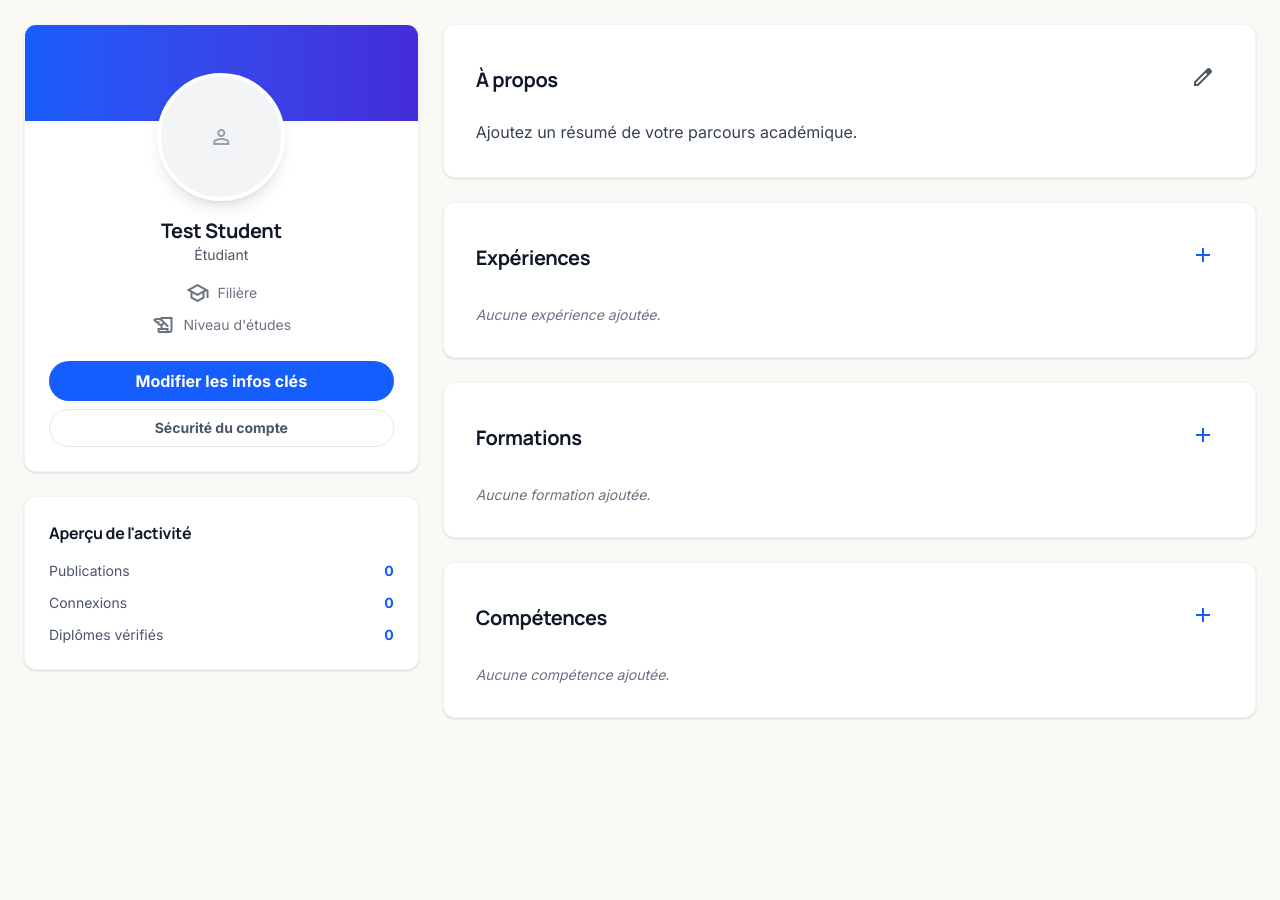
Test case: EtudiantProfil › affiche le modal d'ajout d'expérience
Expected: the heading "Expériences" is shown, [476, 244, 590, 272]
Click the button without text in the row of "Expériences".
click(1203, 258)  # box [1183, 235, 1223, 281]
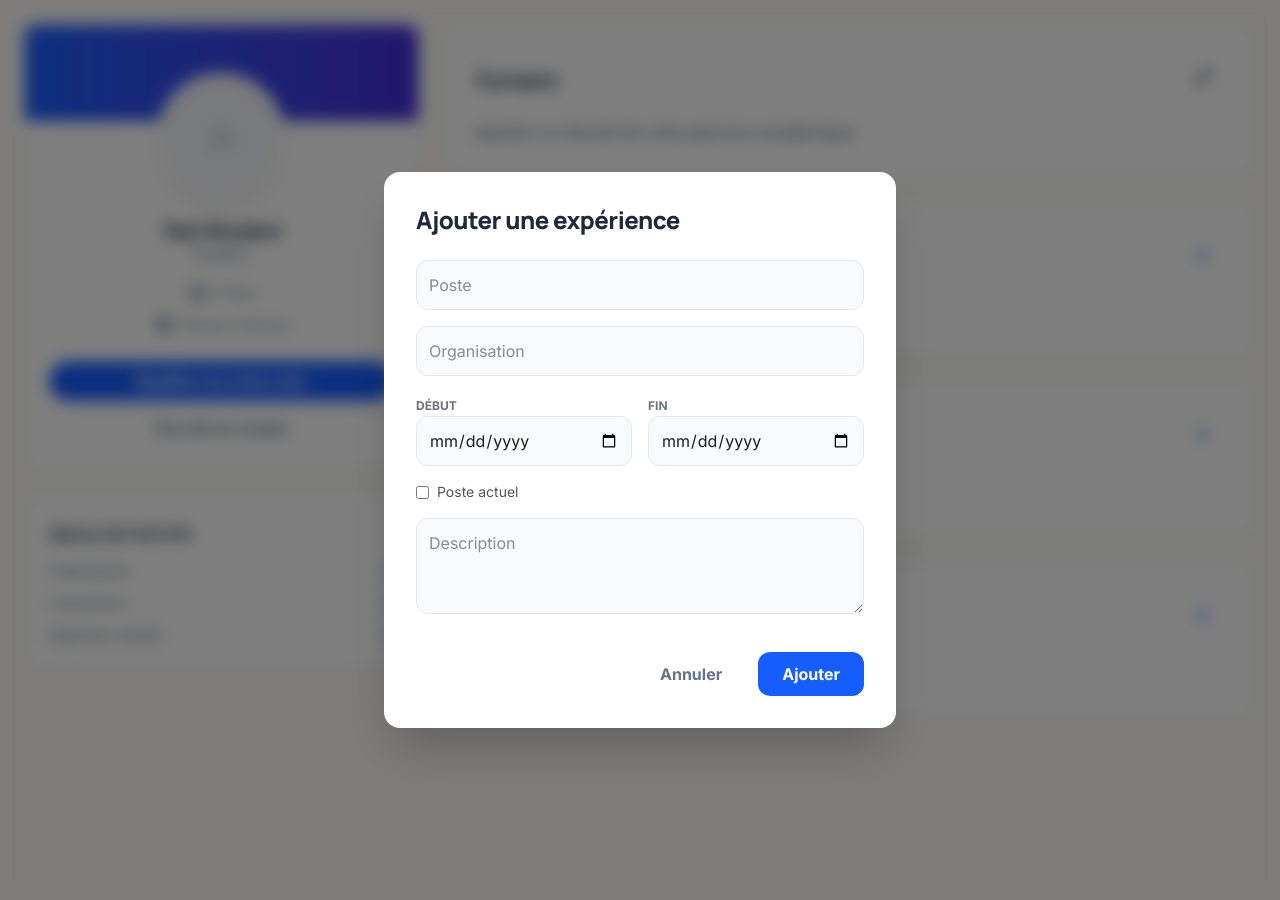
Expected: the heading "Ajouter une expérience" is shown, [416, 203, 680, 236]
